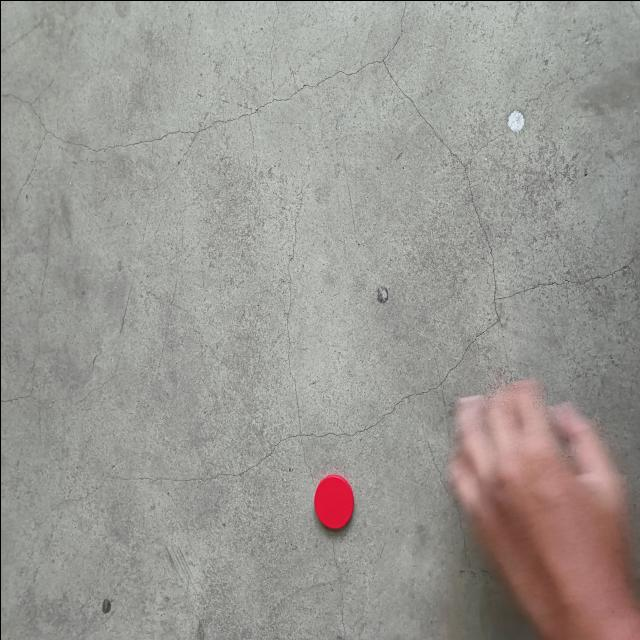chip: (316, 474, 354, 532)
